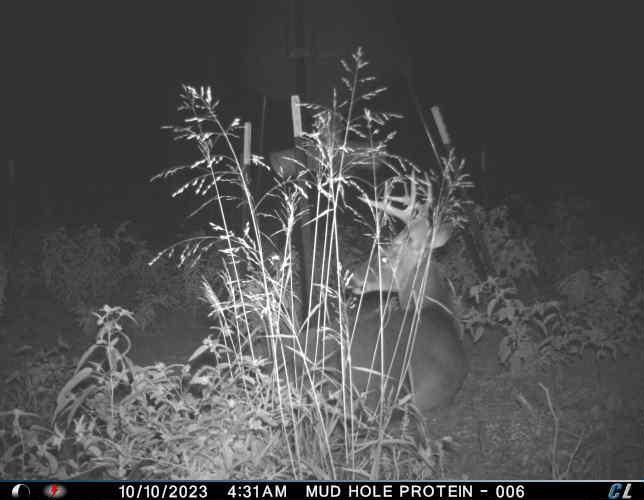Deer: (299, 167, 474, 425)
